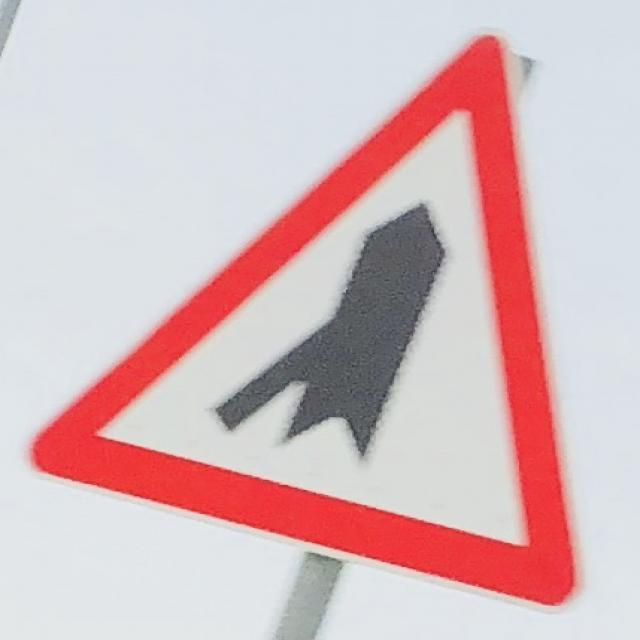cross road: (32, 31, 579, 606)
